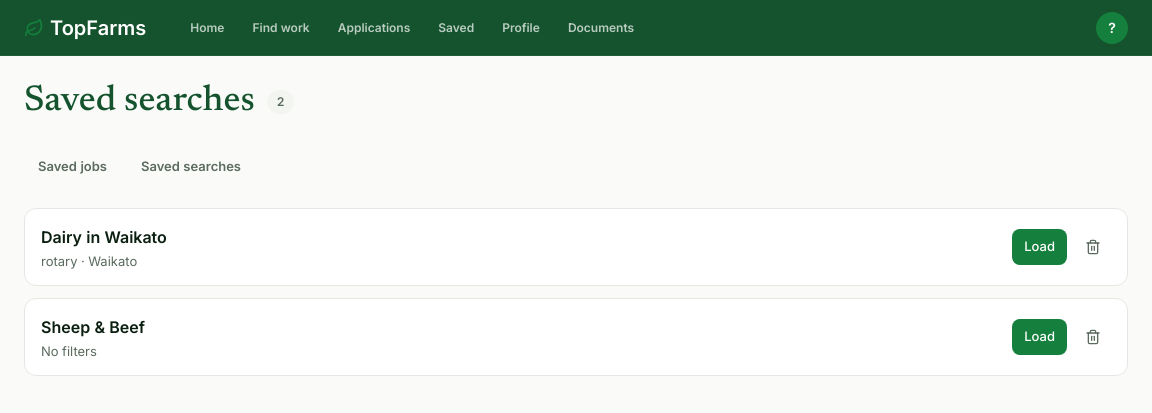
Test: SavedSearches list page (SRCH-15) › Escape key reverts draft to original name
Click the button with aria-label "rename dairy in waikato" at (104, 237), box [41,225,1000,249]
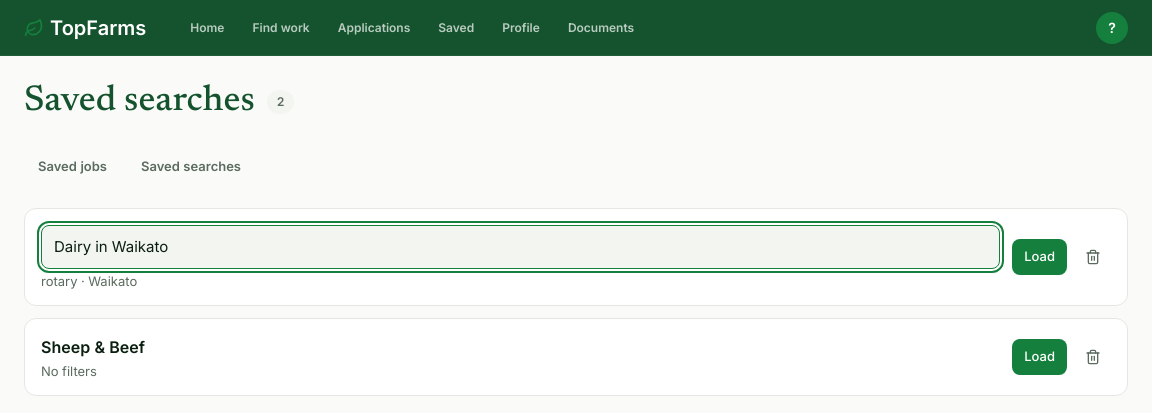
Replace the text in the field named "Edit saved search name" with "Other name" at (521, 247), box [41,225,1000,269]
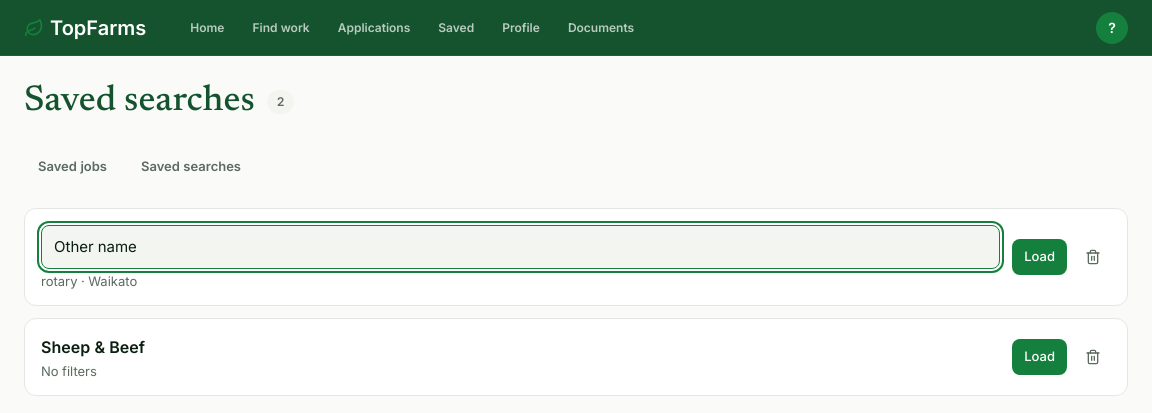
Press Escape in the field named "Edit saved search name", box [41,225,1000,269]
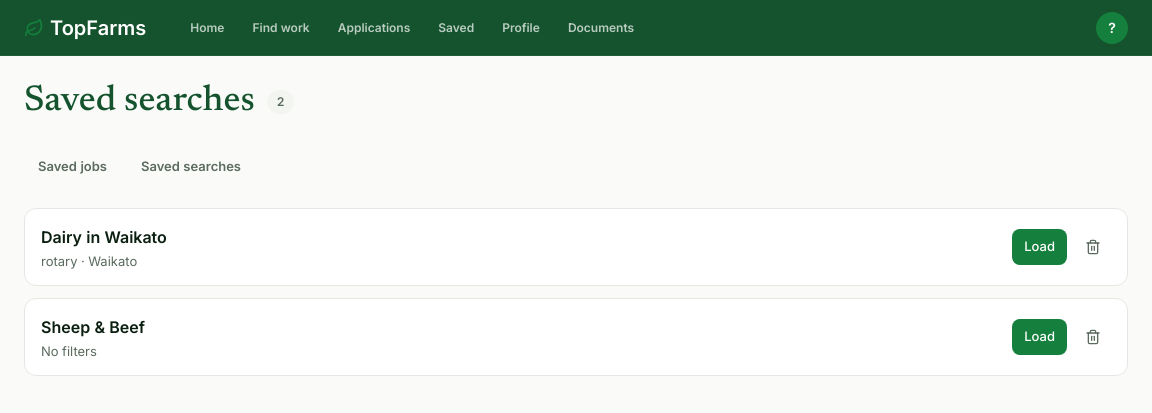
Expected: the button with aria-label "rename dairy in waikato" is shown, [41,225,1000,249]
